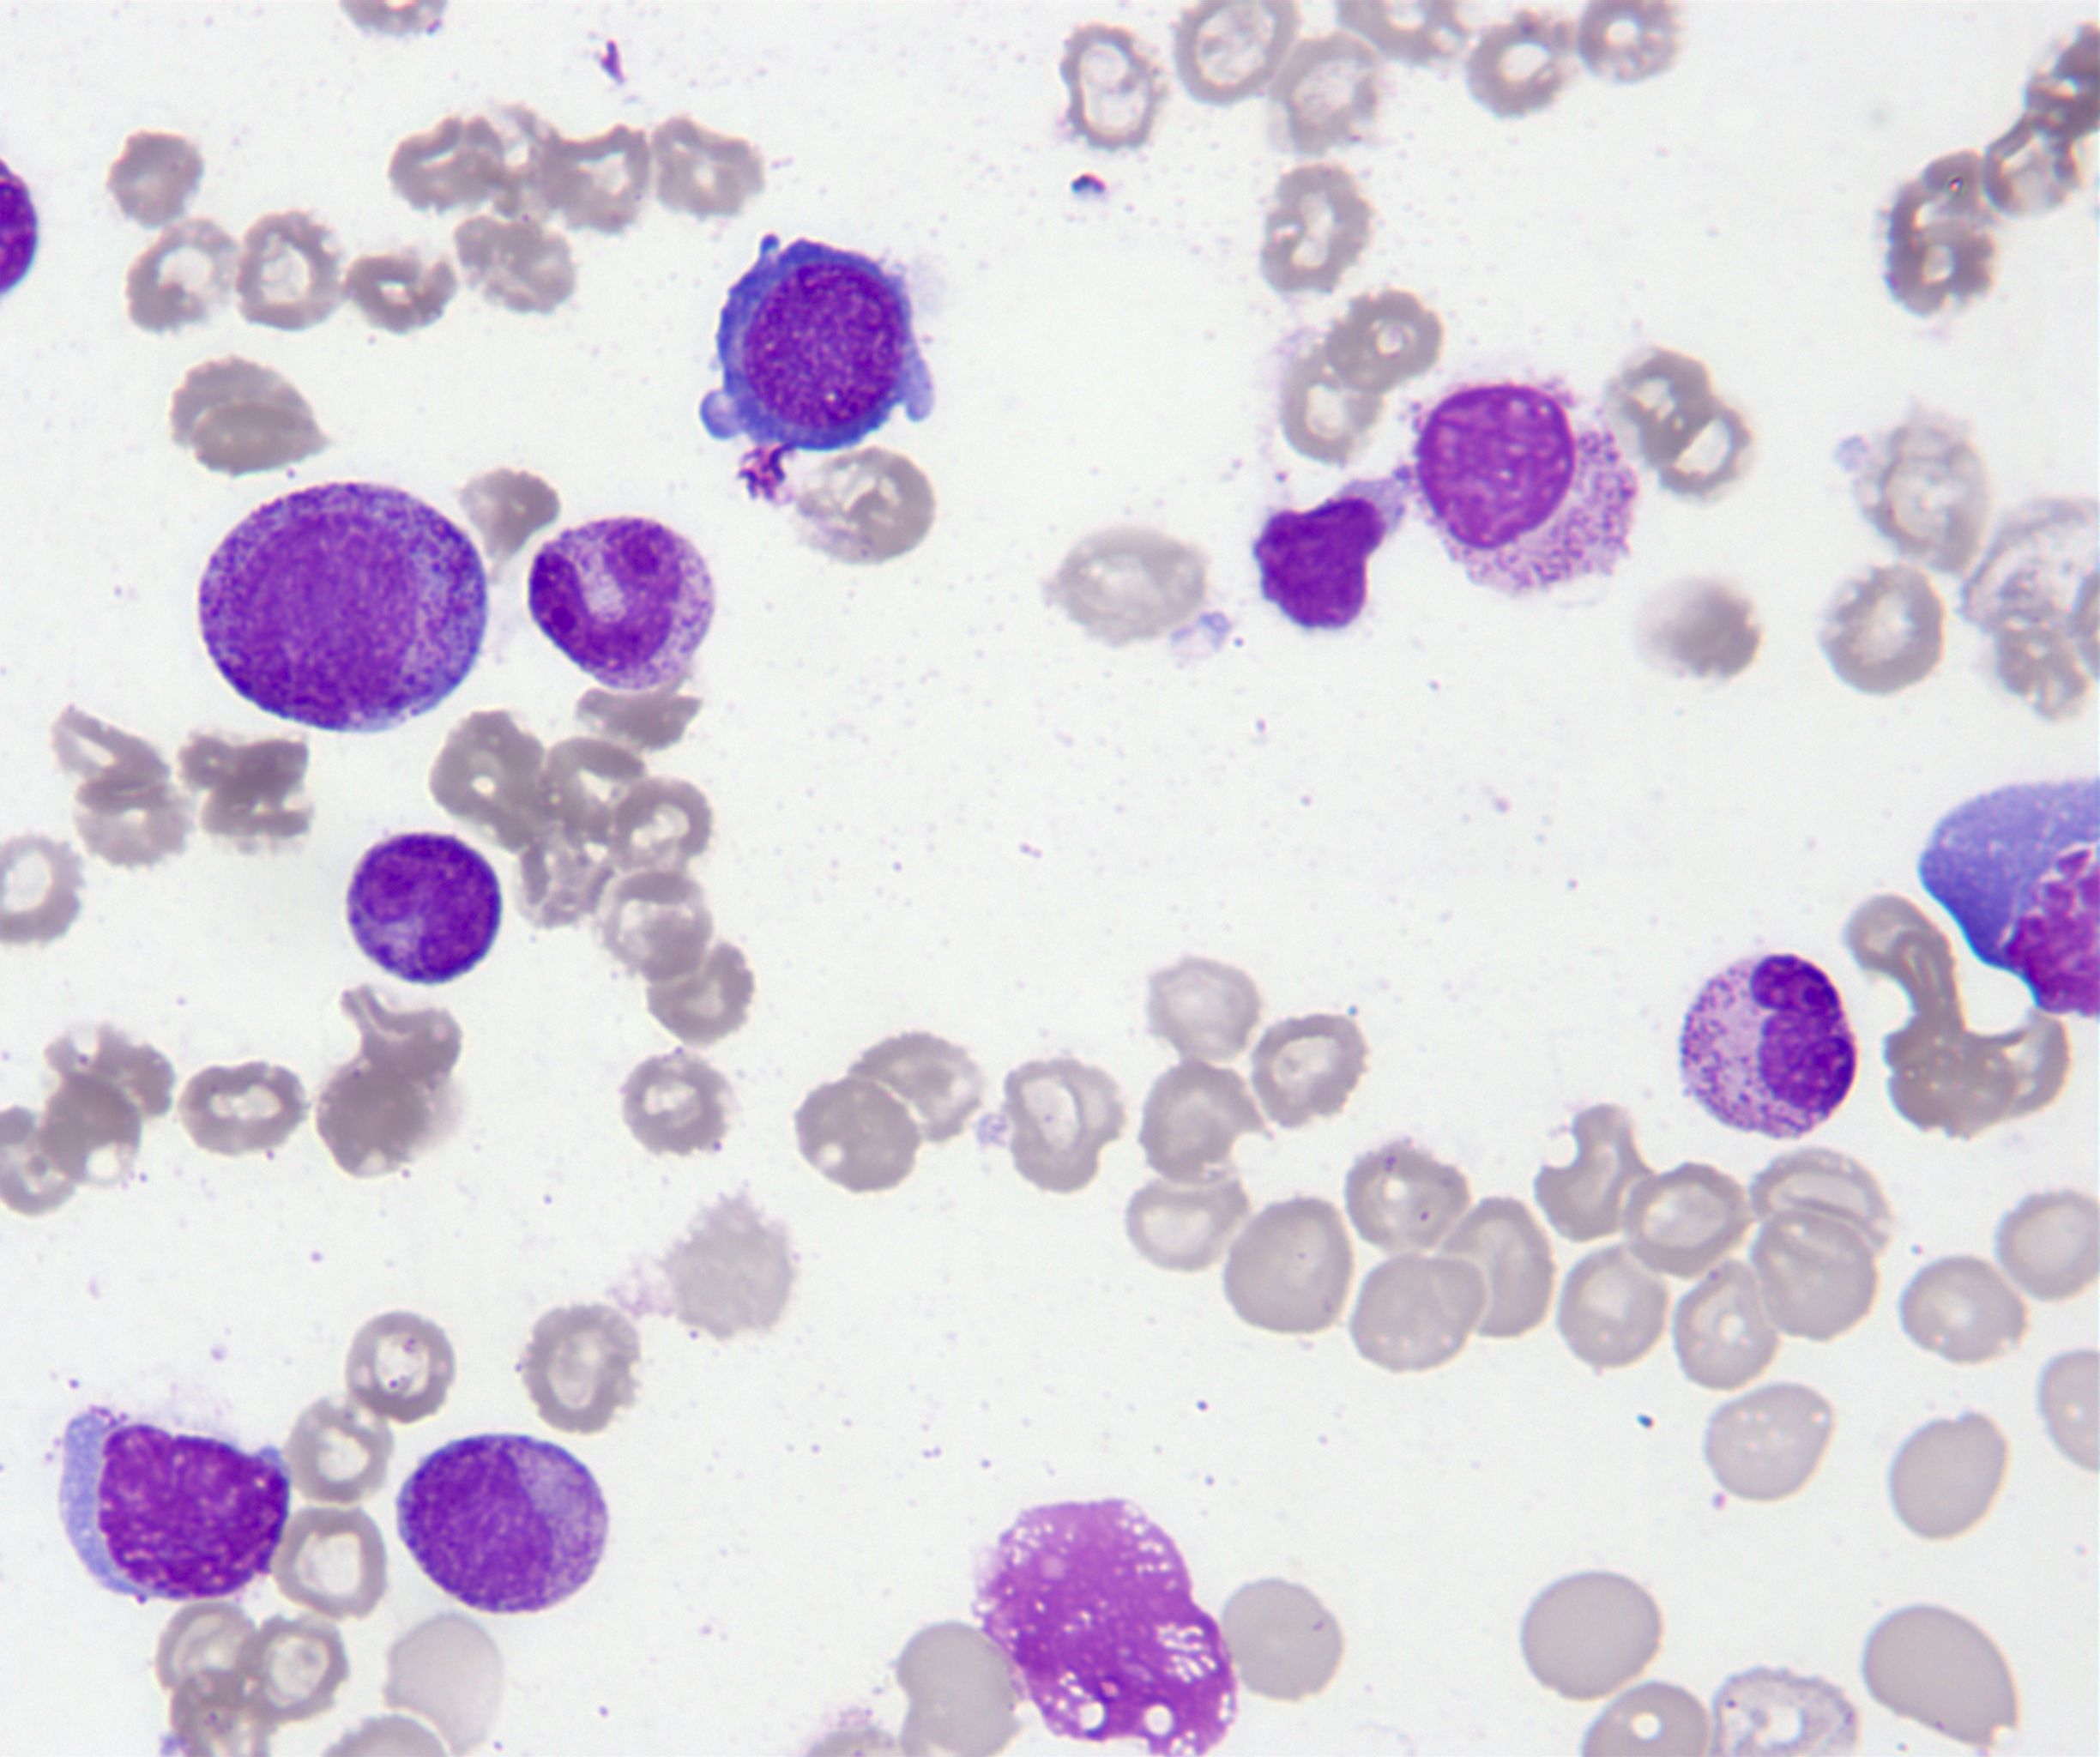22: (692, 227, 944, 461)
3: (194, 473, 497, 747), (389, 1425, 614, 1624)
32: (1247, 469, 1399, 635)
4: (337, 825, 513, 989)
5: (523, 511, 720, 696)
6: (1671, 942, 1861, 1145)
x: (51, 1394, 298, 1610), (1409, 380, 1592, 564)
